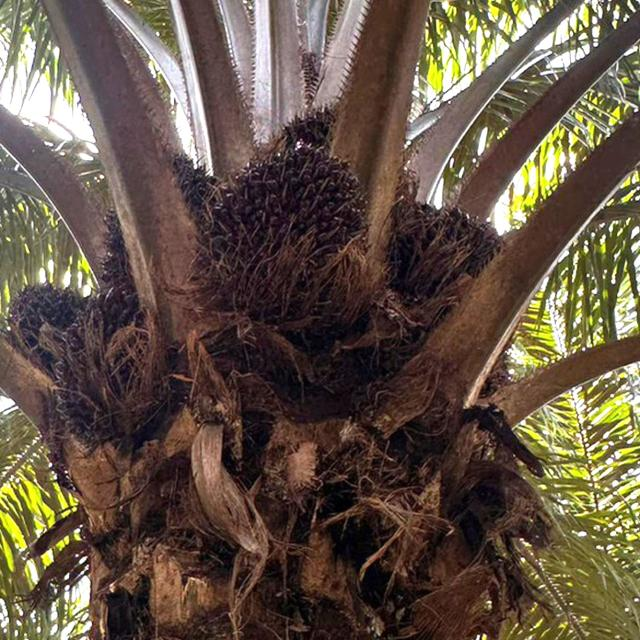almost: (190, 134, 377, 344), (2, 274, 185, 452), (92, 140, 236, 306), (397, 203, 506, 308)
